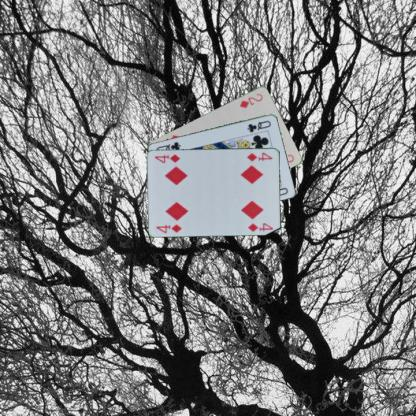2d: (237, 91, 264, 109)
4d: (154, 221, 183, 234), (245, 150, 273, 162)
Qc: (245, 118, 272, 133)
